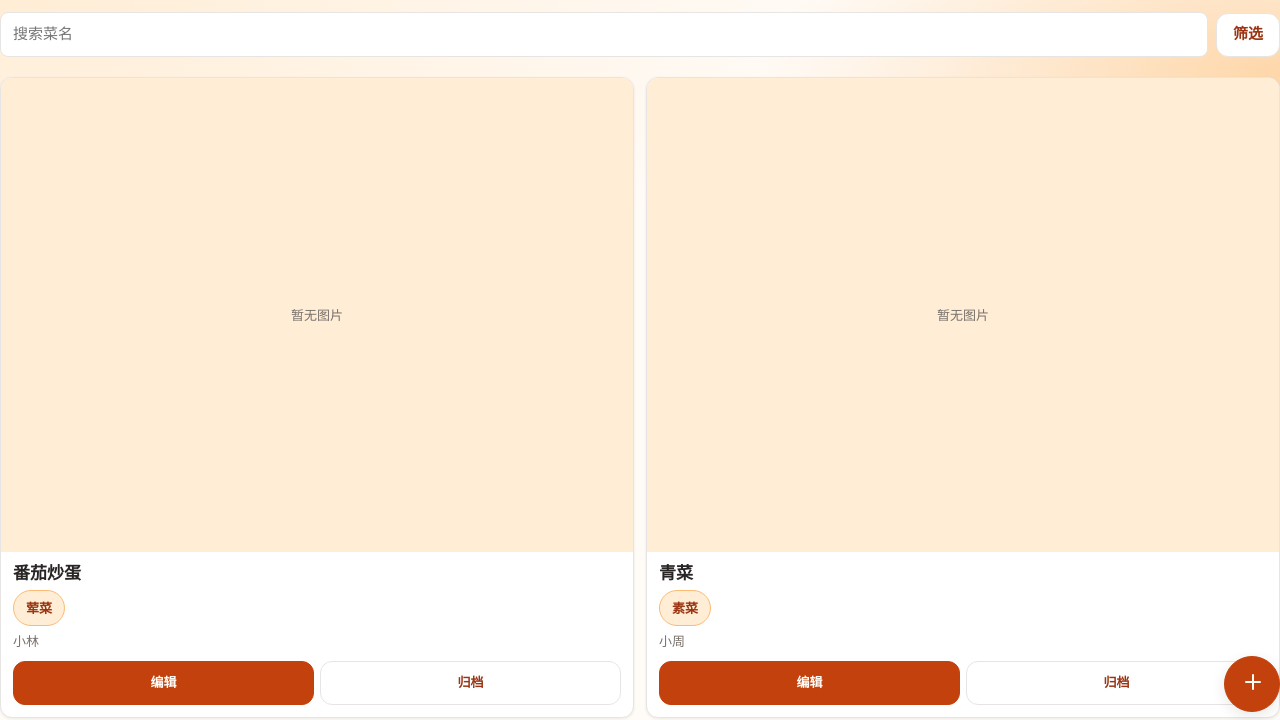
Test: DishListPage › archives a dish only after confirmation
Expected: the text "番茄炒蛋" is shown, [13,564,81,583]
Step 1. Click the button "归档" below "番茄炒蛋" → click(470, 683), box [320,661,621,705]
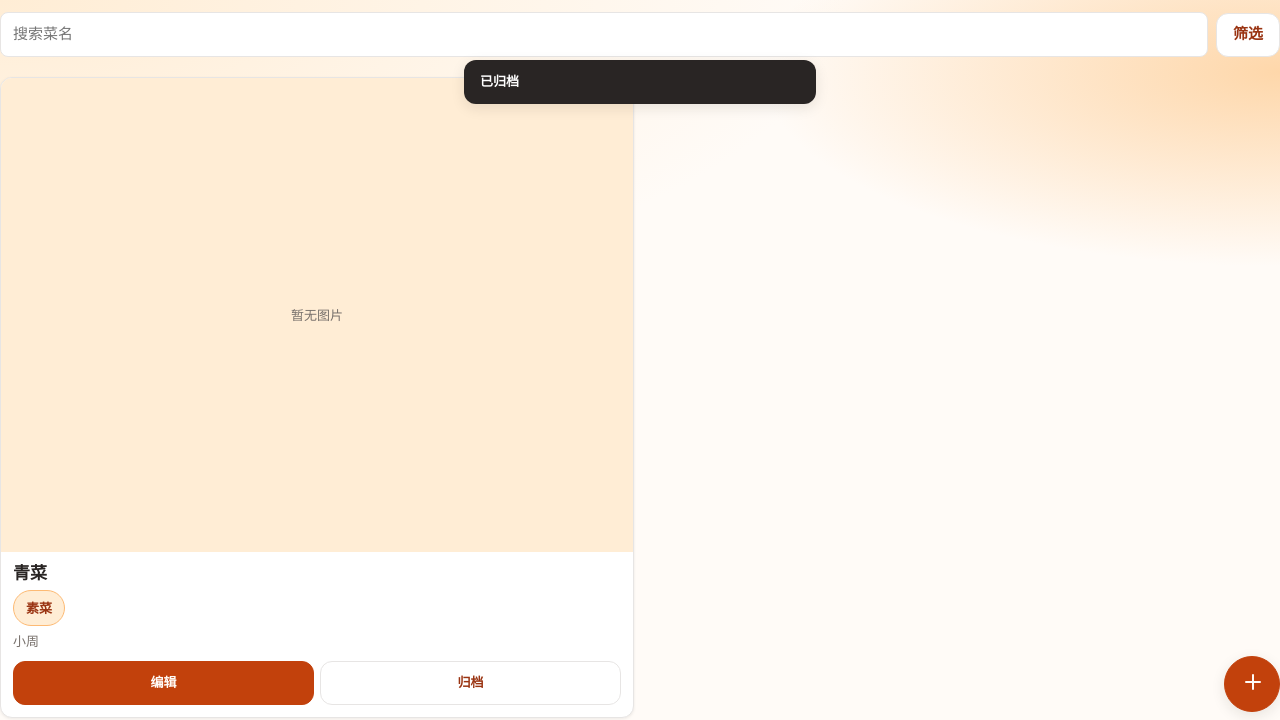
Expected: the heading "番茄炒蛋" is gone
